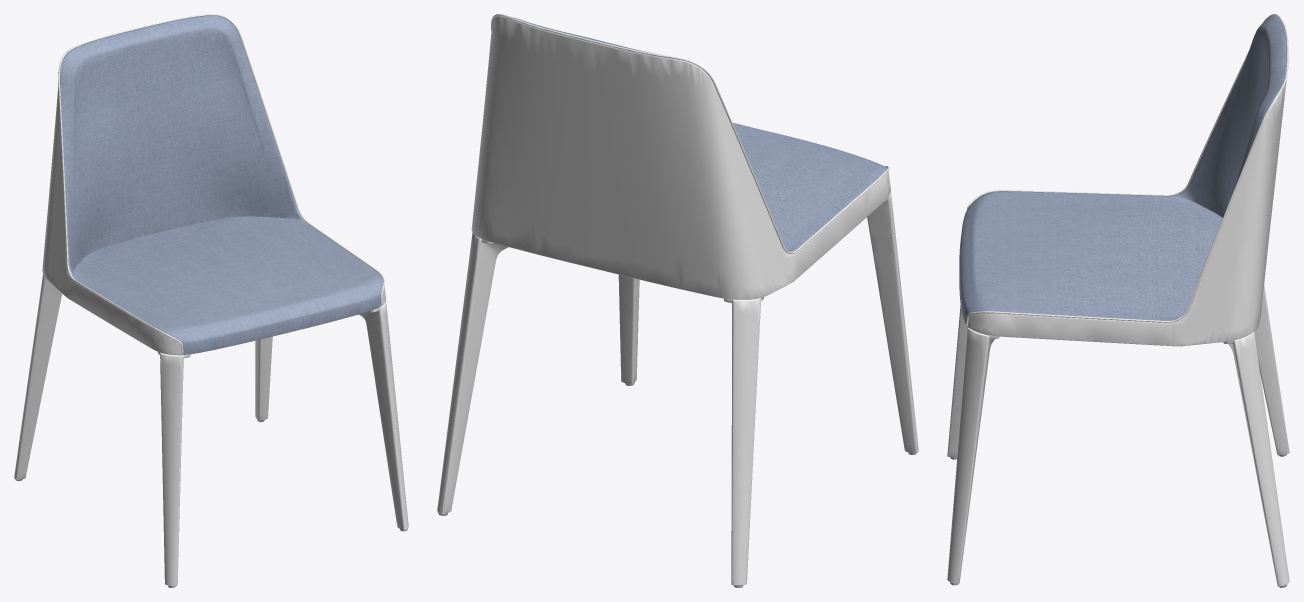
File: lajachair.gltf
3 renders of one model, left to right at view 1: azimuth 30°, elevation 25°; view 2: azimuth 150°, elevation 25°; view 3: azimuth 270°, elevation 25°, orthographic. The views are drawn at different scales.
Parts seen in each view (by area): view 1: laja; view 2: laja; view 3: laja.
Boxes of the visible parts, box(x1,y1,x2,y2) form: laja: box(14, 14, 408, 587); laja: box(437, 14, 918, 587); laja: box(947, 14, 1289, 587).
Size of the model in its own units: 0.5013 by 0.7986 by 0.5302.
Materials: 1 (1 with a texture image).
